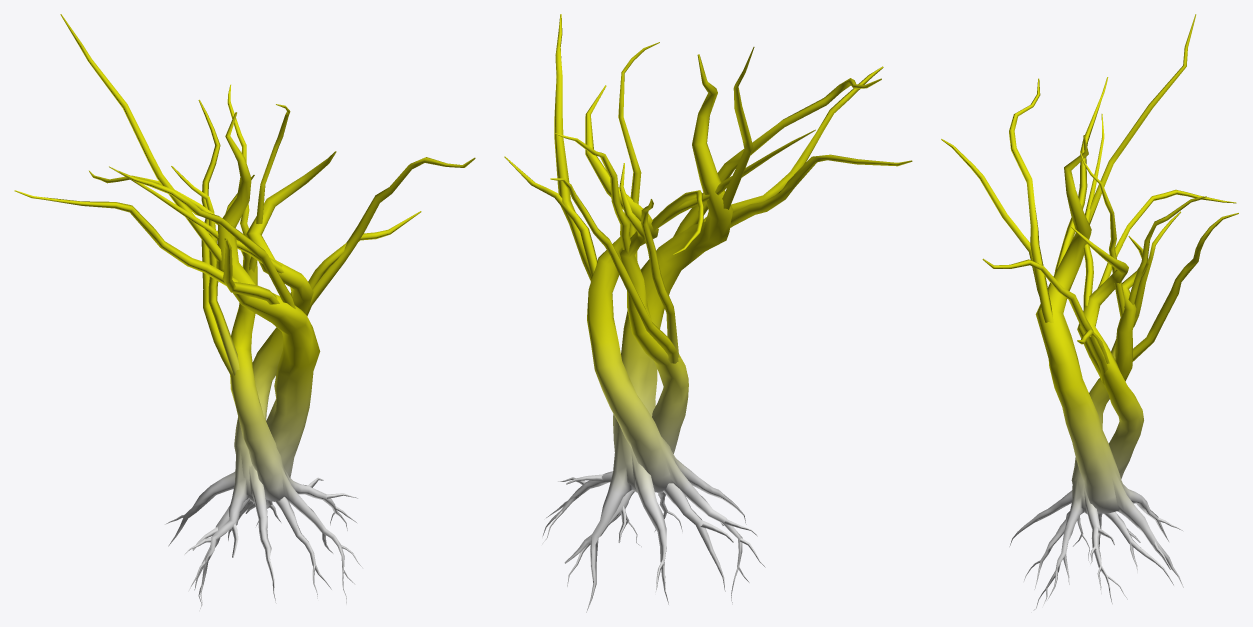
The model's file is Deadtree11.fbx.
3 views of the same model, side by side, from view 1: azimuth 30°, elevation 25°; view 2: azimuth 150°, elevation 25°; view 3: azimuth 270°, elevation 25° (orthographic). The views are drawn at different scales.
Parts seen in each view (by area): view 1: Deadtree11_LOD0; view 2: Deadtree11_LOD0; view 3: Deadtree11_LOD0.
Part boxes in pixels (x1,y1,x2,y2): Deadtree11_LOD0: [14, 14, 475, 608]; Deadtree11_LOD0: [504, 14, 912, 612]; Deadtree11_LOD0: [941, 14, 1238, 610].
Size of what is drawn, in the model's own units: 873 by 1225 by 641.
